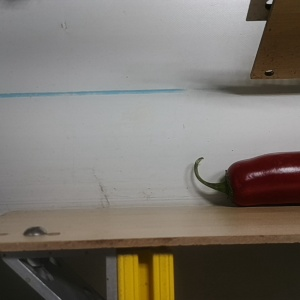Cut Point: (217, 161, 245, 201)
